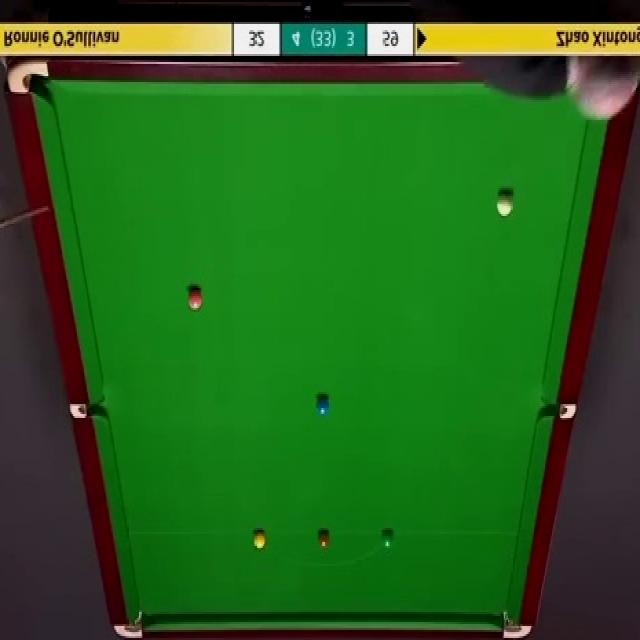pocket: (6, 58, 51, 98), (112, 606, 145, 640), (499, 608, 530, 640), (539, 400, 576, 422), (67, 405, 105, 420)
